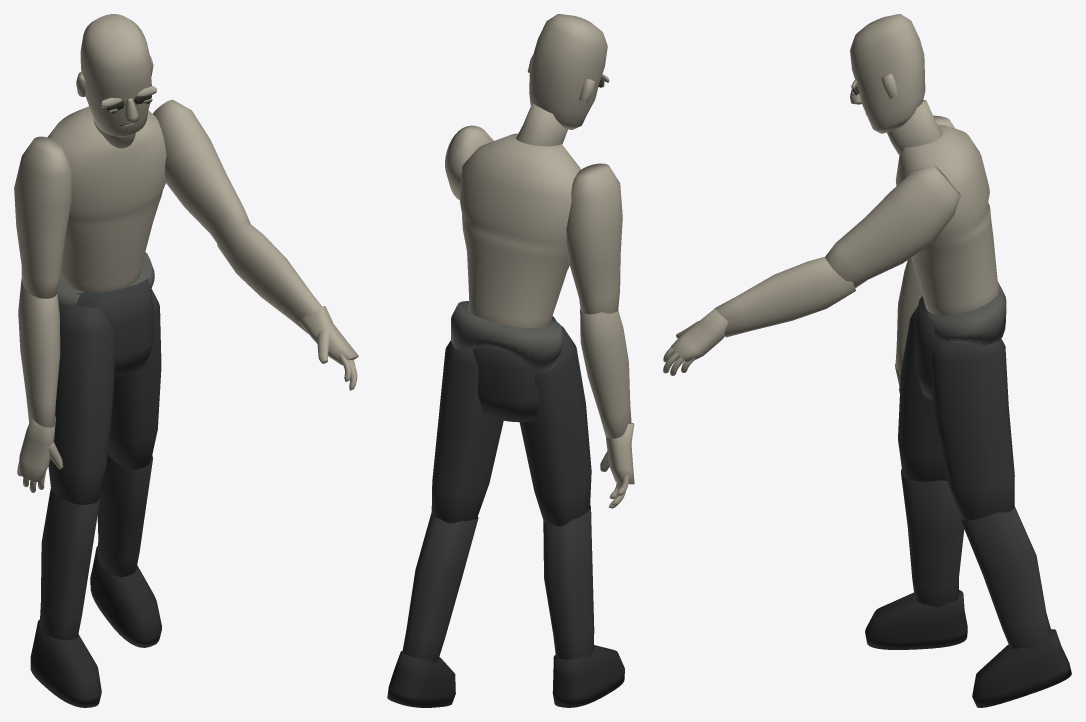
The model's file is enemy-hollow.glb.
3 views of the same model, side by side, from view 1: azimuth 30°, elevation 25°; view 2: azimuth 150°, elevation 25°; view 3: azimuth 270°, elevation 25° (orthographic). The views are drawn at different scales.
Visible parts, largest first — view 1: Chest, Trouser thigh_L, Upper arm_L, Upper arm_R, Trouser shin_L, Anatomical head, Trouser thigh_R, Trouser shin_R, Forearm anatomy_R, Forearm anatomy_L, Waist, Shoe_R (+4 smaller); view 2: Chest, Trouser thigh_L, Trouser thigh_R, Upper arm_L, Anatomical head, Trouser shin_L, Trouser shin_R, Forearm anatomy_L, Torn waist fabric, Waist, Shoe_L, Shoe_R (+3 smaller); view 3: Trouser thigh_R, Chest, Upper arm_R, Trouser shin_R, Anatomical head, Trouser shin_L, Forearm anatomy_R, Shoe_L, Shoe_R, Trouser thigh_L, Torn waist fabric, Palm_R (+3 smaller).
Part boxes in pixels (left/top/right/bottom): Chest: left=47, top=106, right=166, bottom=292; Trouser thigh_L: left=48, top=305, right=114, bottom=504; Upper arm_L: left=14, top=136, right=71, bottom=298; Upper arm_R: left=152, top=99, right=250, bottom=242; Trouser shin_L: left=39, top=488, right=99, bottom=640; Anatomical head: left=80, top=14, right=151, bottom=136; Trouser thigh_R: left=107, top=289, right=161, bottom=469; Trouser shin_R: left=97, top=454, right=152, bottom=576; Forearm anatomy_R: left=217, top=223, right=321, bottom=333; Forearm anatomy_L: left=18, top=279, right=60, bottom=427; Waist: left=76, top=278, right=154, bottom=377; Shoe_R: left=90, top=546, right=161, bottom=647; Chest: left=460, top=133, right=580, bottom=349; Trouser thigh_L: left=519, top=326, right=591, bottom=526; Trouser thigh_R: left=431, top=340, right=503, bottom=523; Upper arm_L: left=566, top=163, right=622, bottom=314; Anatomical head: left=529, top=14, right=607, bottom=129; Trouser shin_L: left=543, top=505, right=594, bottom=659; Trouser shin_R: left=402, top=513, right=478, bottom=662; Forearm anatomy_L: left=580, top=309, right=631, bottom=438; Torn waist fabric: left=451, top=301, right=563, bottom=370; Waist: left=472, top=316, right=556, bottom=422; Shoe_L: left=552, top=645, right=624, bottom=707; Shoe_R: left=387, top=651, right=455, bottom=707; Trouser thigh_R: left=930, top=339, right=1014, bottom=520; Chest: left=895, top=125, right=999, bottom=315; Upper arm_R: left=825, top=165, right=960, bottom=288; Trouser shin_R: left=960, top=506, right=1051, bottom=648; Anatomical head: left=850, top=14, right=925, bottom=133; Trouser shin_L: left=901, top=469, right=964, bottom=607; Forearm anatomy_R: left=714, top=257, right=855, bottom=337; Shoe_L: left=865, top=590, right=967, bottom=649; Shoe_R: left=972, top=629, right=1071, bottom=707; Trouser thigh_L: left=898, top=306, right=947, bottom=481; Torn waist fabric: left=926, top=282, right=1006, bottom=346; Palm_R: left=671, top=308, right=728, bottom=362.
Size of the model in its own units: 0.5783 by 1.74 by 0.9925.
